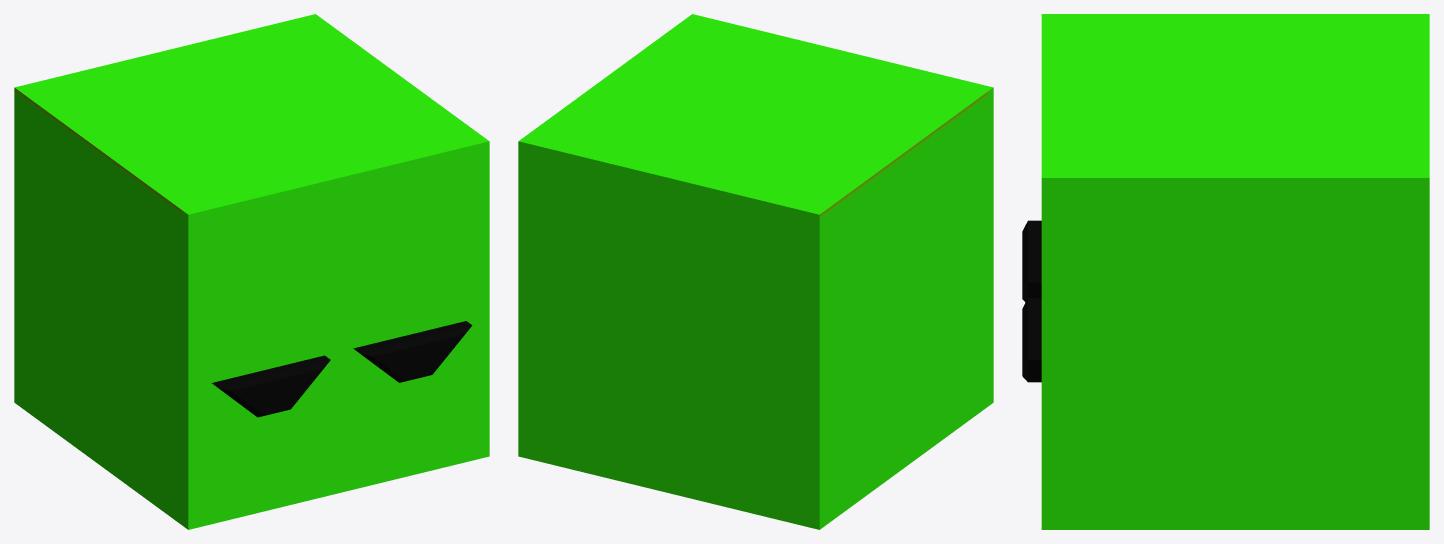
File: WaruBox2.fbx
3 renders of one model, left to right at view 1: azimuth 30°, elevation 25°; view 2: azimuth 150°, elevation 25°; view 3: azimuth 270°, elevation 25°, orthographic. The views are drawn at different scales.
Parts seen in each view (by area): view 1: WaruBox2, WaruEye2; view 2: WaruBox2; view 3: WaruBox2, WaruEye2.
Part boxes in pixels (<box>): WaruBox2: <box>14,14,489,529</box>; WaruEye2: <box>212,321,472,417</box>; WaruBox2: <box>518,14,993,529</box>; WaruBox2: <box>1041,14,1429,529</box>; WaruEye2: <box>1022,220,1041,382</box>.
Size of the model in its own units: 1 by 1 by 1.05.
Materials: 1 (1 with a texture image).
